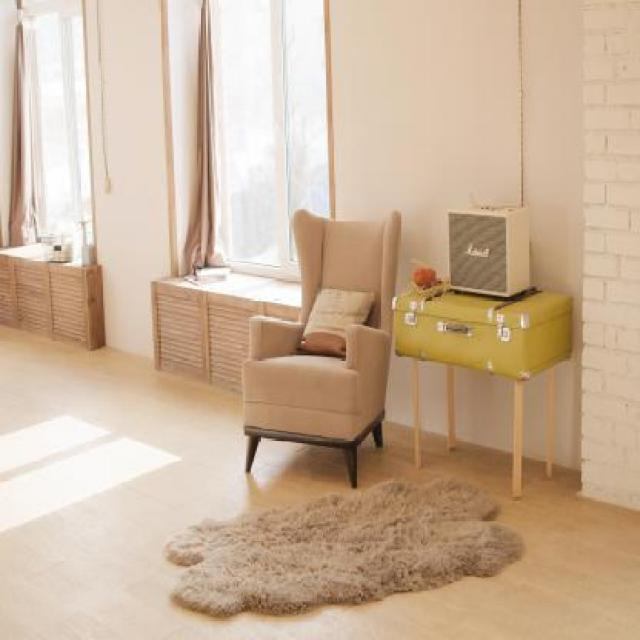Floor: (0, 326, 355, 639), (323, 420, 640, 640)
